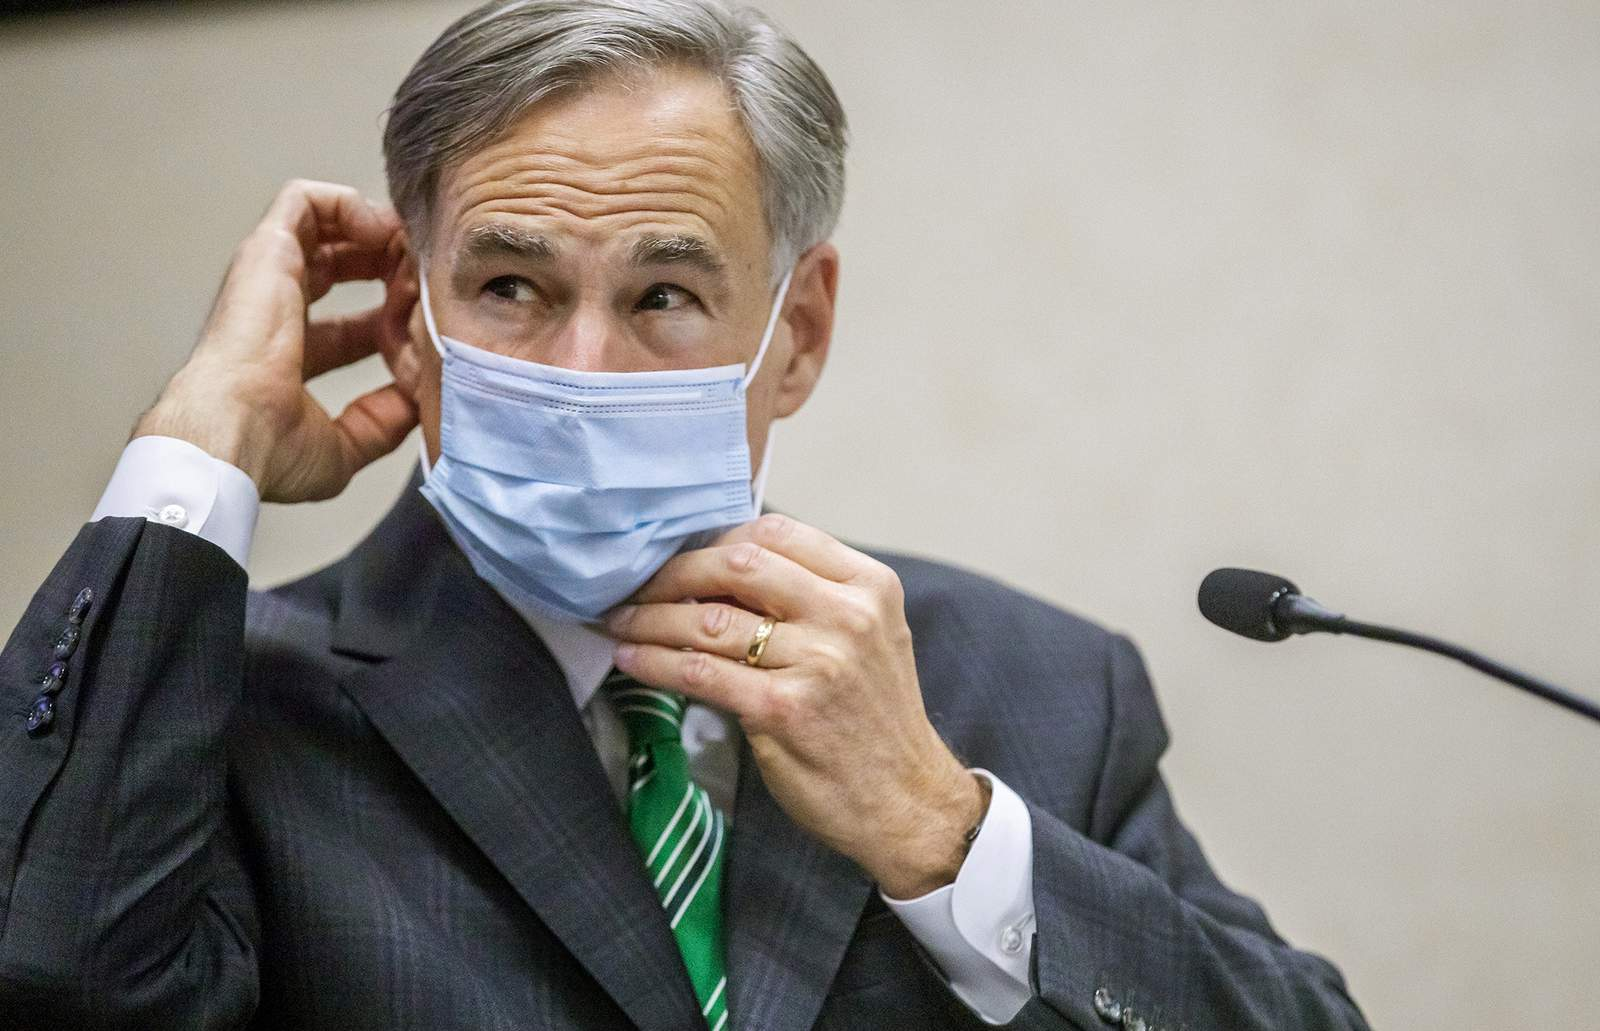with_mask: (392, 90, 825, 577)
